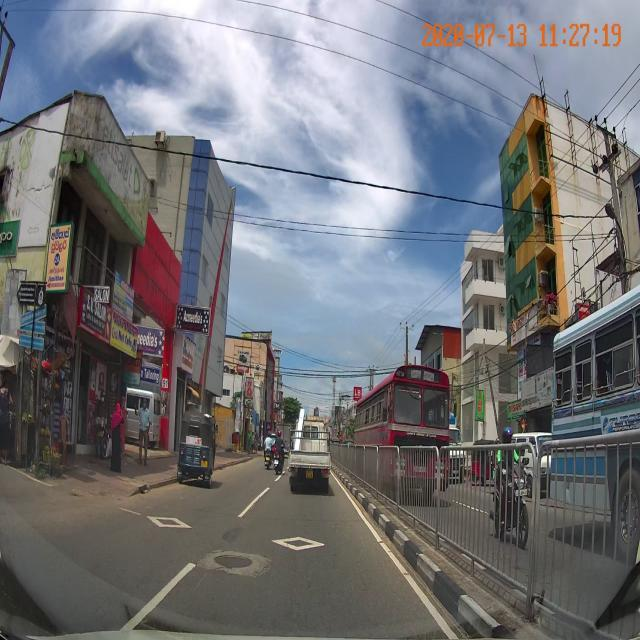diamond: (215, 527, 407, 575)
